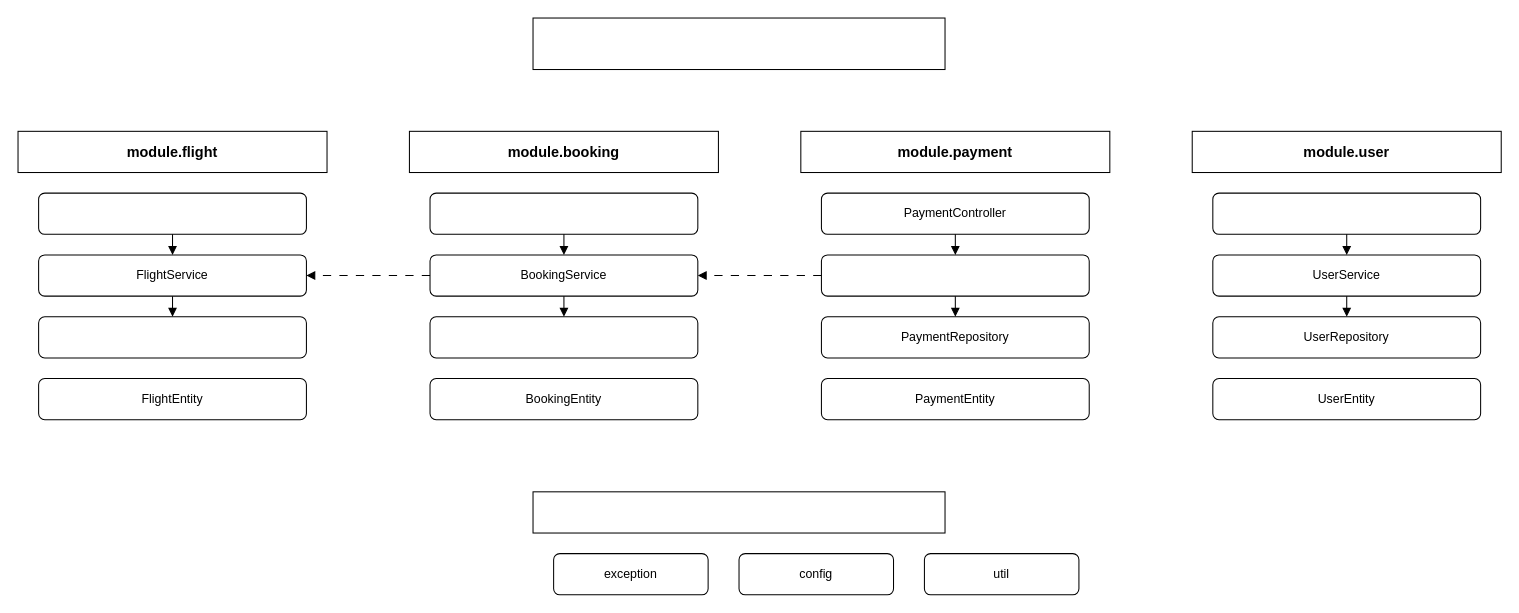
This 1519x613 diagram has some shape labels left out. The shapes that lost their labels are listed below. From the top down, each one's box as (x1, y1, x2, y2) in pixels, then its label:
(532, 17, 945, 70): com.company.flightbooking
(38, 192, 306, 234): FlightController
(429, 192, 698, 234): BookingController
(1212, 192, 1481, 234): UserController
(820, 254, 1089, 296): PaymentService
(38, 316, 306, 358): FlightRepository
(429, 316, 698, 358): BookingRepository
(532, 491, 945, 533): common
